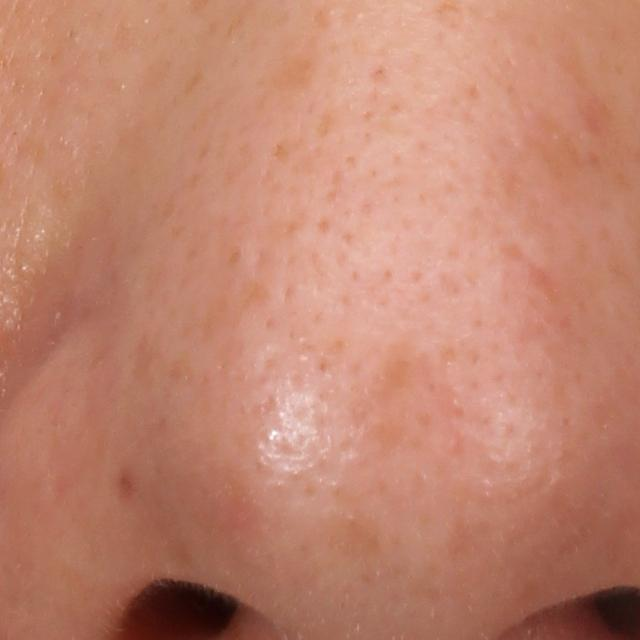melasma: (554, 40, 625, 141), (261, 40, 323, 104)
